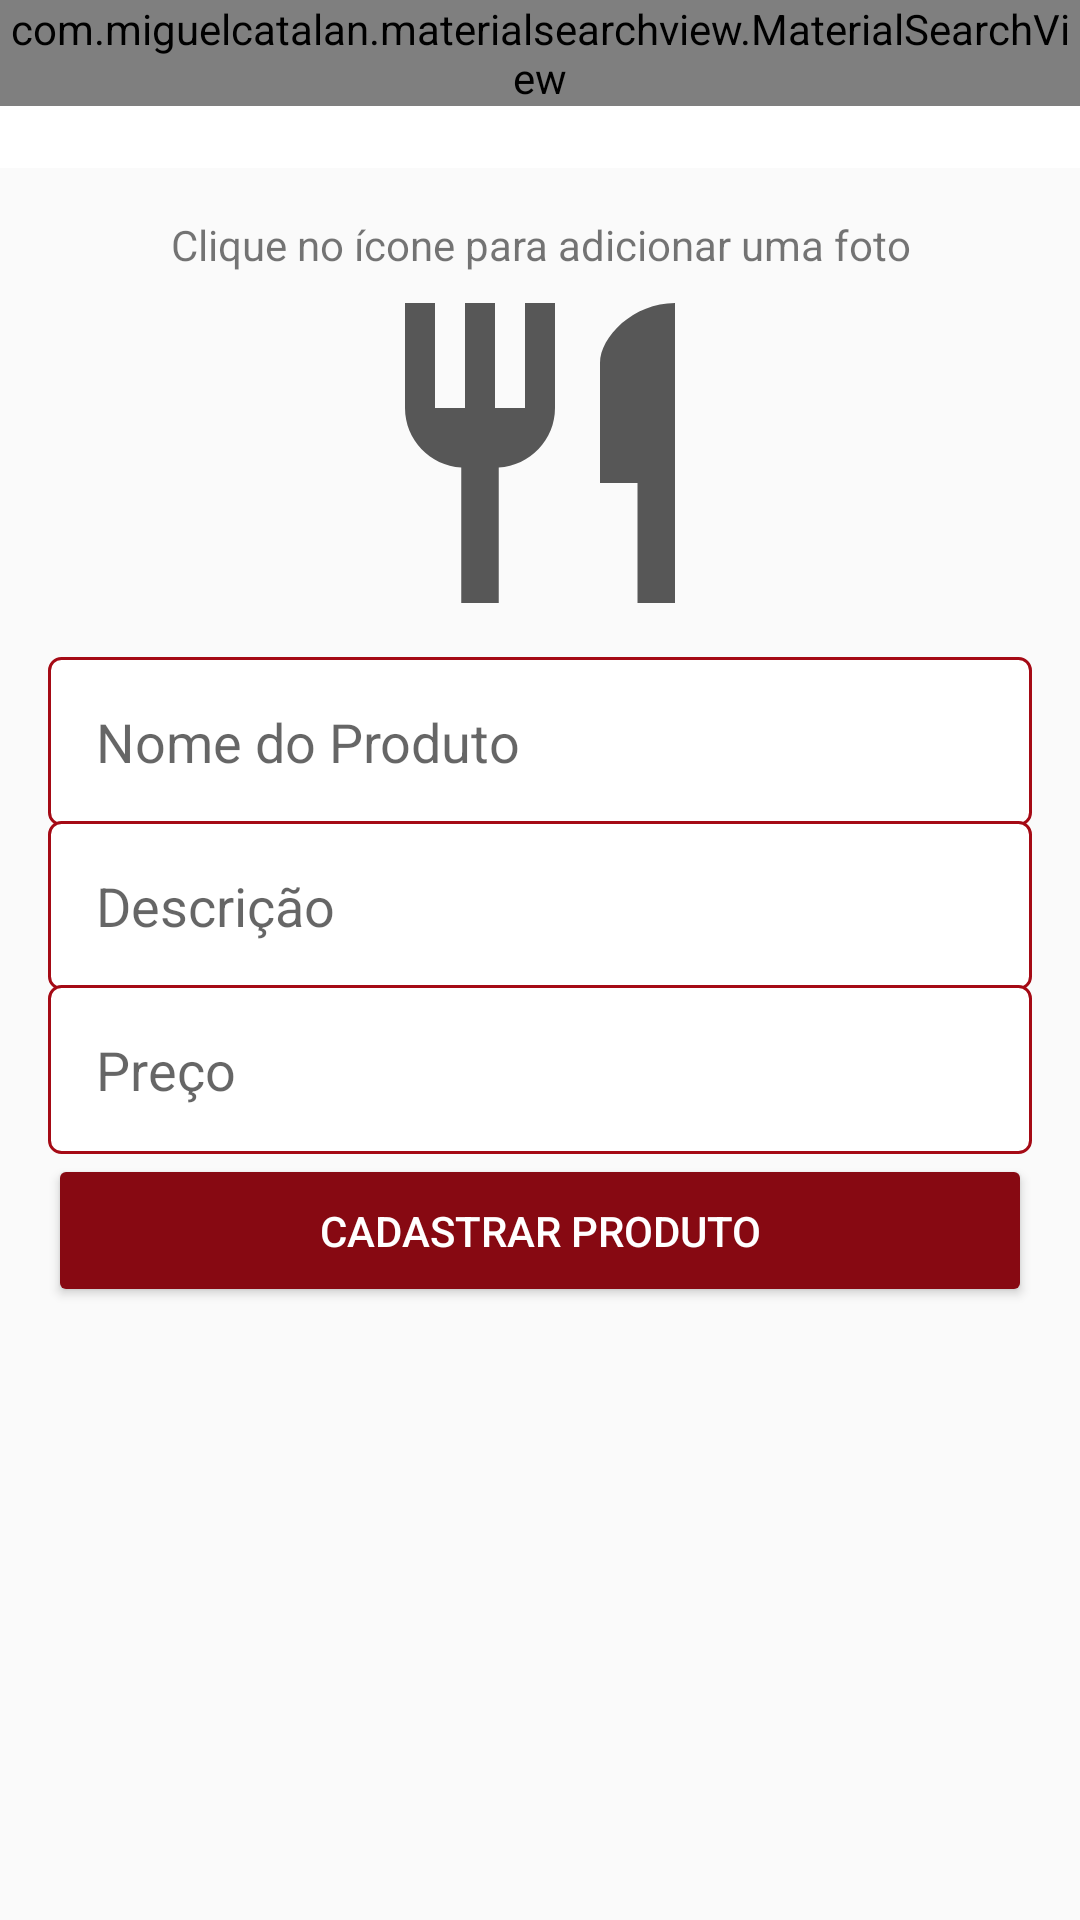

Named icons in this screenshot (1080 x 1920) and their centers, (x=x, y=y):
restaurant: (x=540, y=453)
